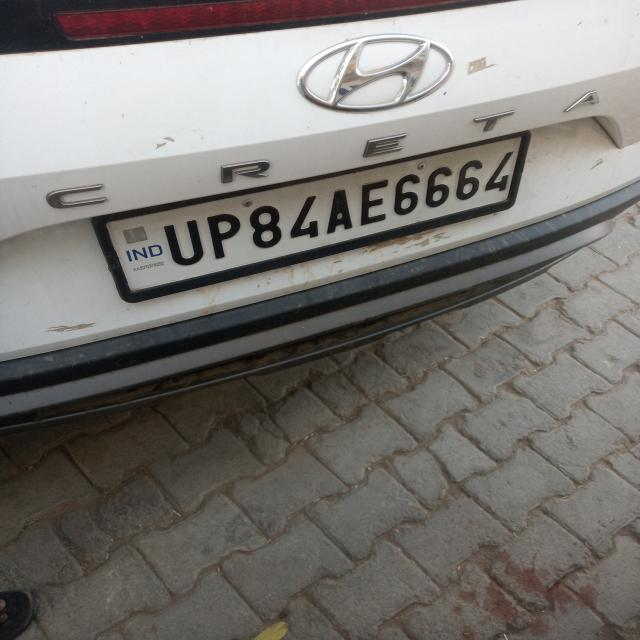Number_Plate_Detected: (94, 129, 534, 309)
